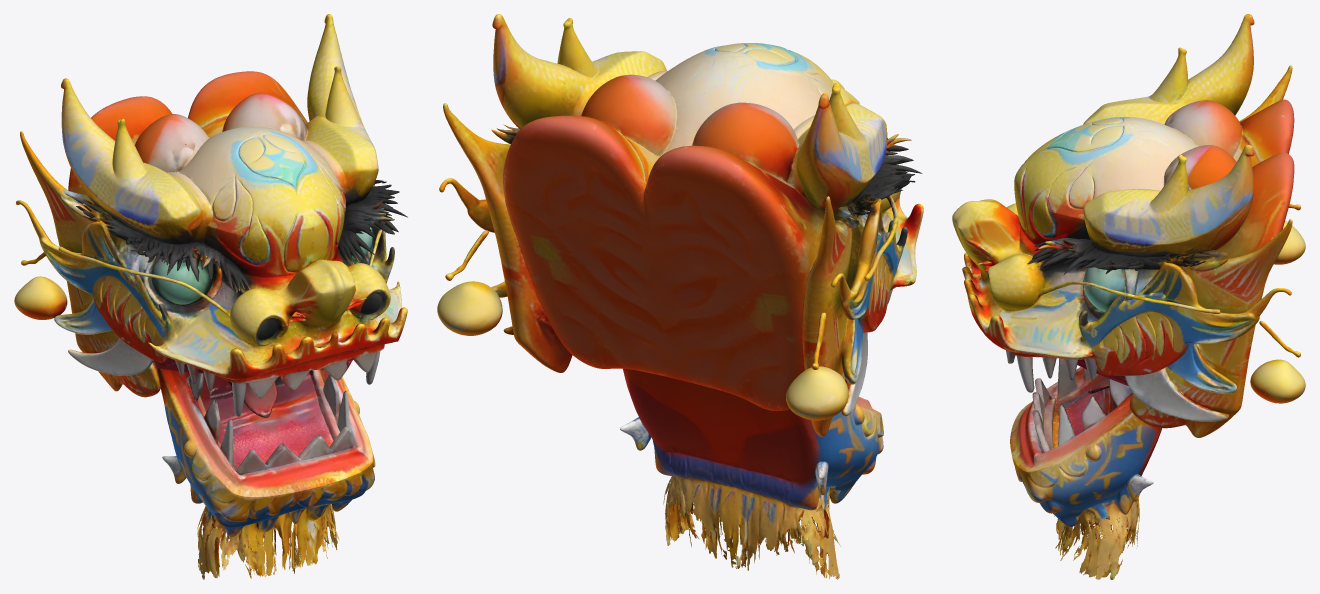
Rendered from dragon.glb.
The picture shows the model from 3 angles, left to right: view 1: azimuth 30°, elevation 25°; view 2: azimuth 150°, elevation 25°; view 3: azimuth 270°, elevation 25°; orthographic projection. The views are drawn at different scales.
Visible parts, largest first — view 1: model; view 2: model; view 3: model.
Boxes of the visible parts, x1=… form: model: x1=14, y1=14, x2=407, y2=579; model: x1=437, y1=14, x2=923, y2=579; model: x1=952, y1=14, x2=1305, y2=579.
Bounding box in the file's own units: 42892 × 57841 × 39361.
1 material, 1 textured.
